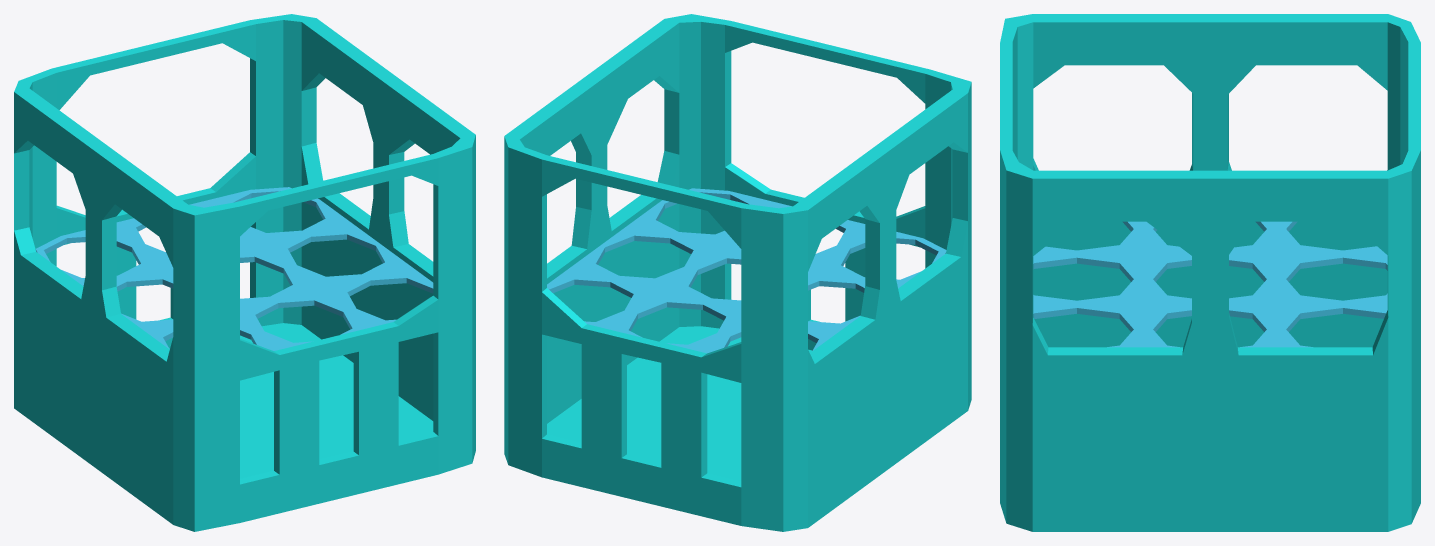
Rendered from scene_T9aQqR8RjI.glb.
The picture shows the model from 3 angles, left to right: view 1: azimuth 30°, elevation 25°; view 2: azimuth 150°, elevation 25°; view 3: azimuth 270°, elevation 25°; orthographic projection. The views are drawn at different scales.
Visible parts, largest first — view 1: Cube, Cube.001_Cube.003; view 2: Cube, Cube.001_Cube.003; view 3: Cube, Cube.001_Cube.003.
Part boxes in pixels (x1,y1,x2,y2): Cube: (14, 14, 475, 531); Cube.001_Cube.003: (35, 187, 433, 350); Cube: (504, 14, 971, 531); Cube.001_Cube.003: (547, 188, 946, 353); Cube: (1000, 14, 1420, 531); Cube.001_Cube.003: (1033, 221, 1387, 347).
Size of the model in its own units: 2 by 2 by 2.16.
